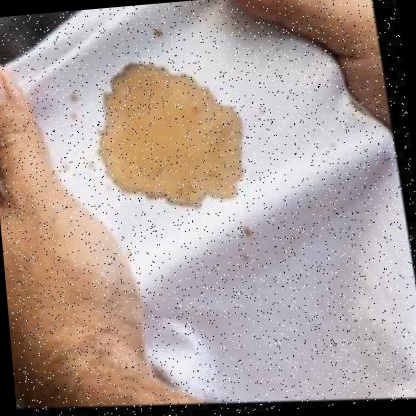coffee: (94, 55, 246, 211)
